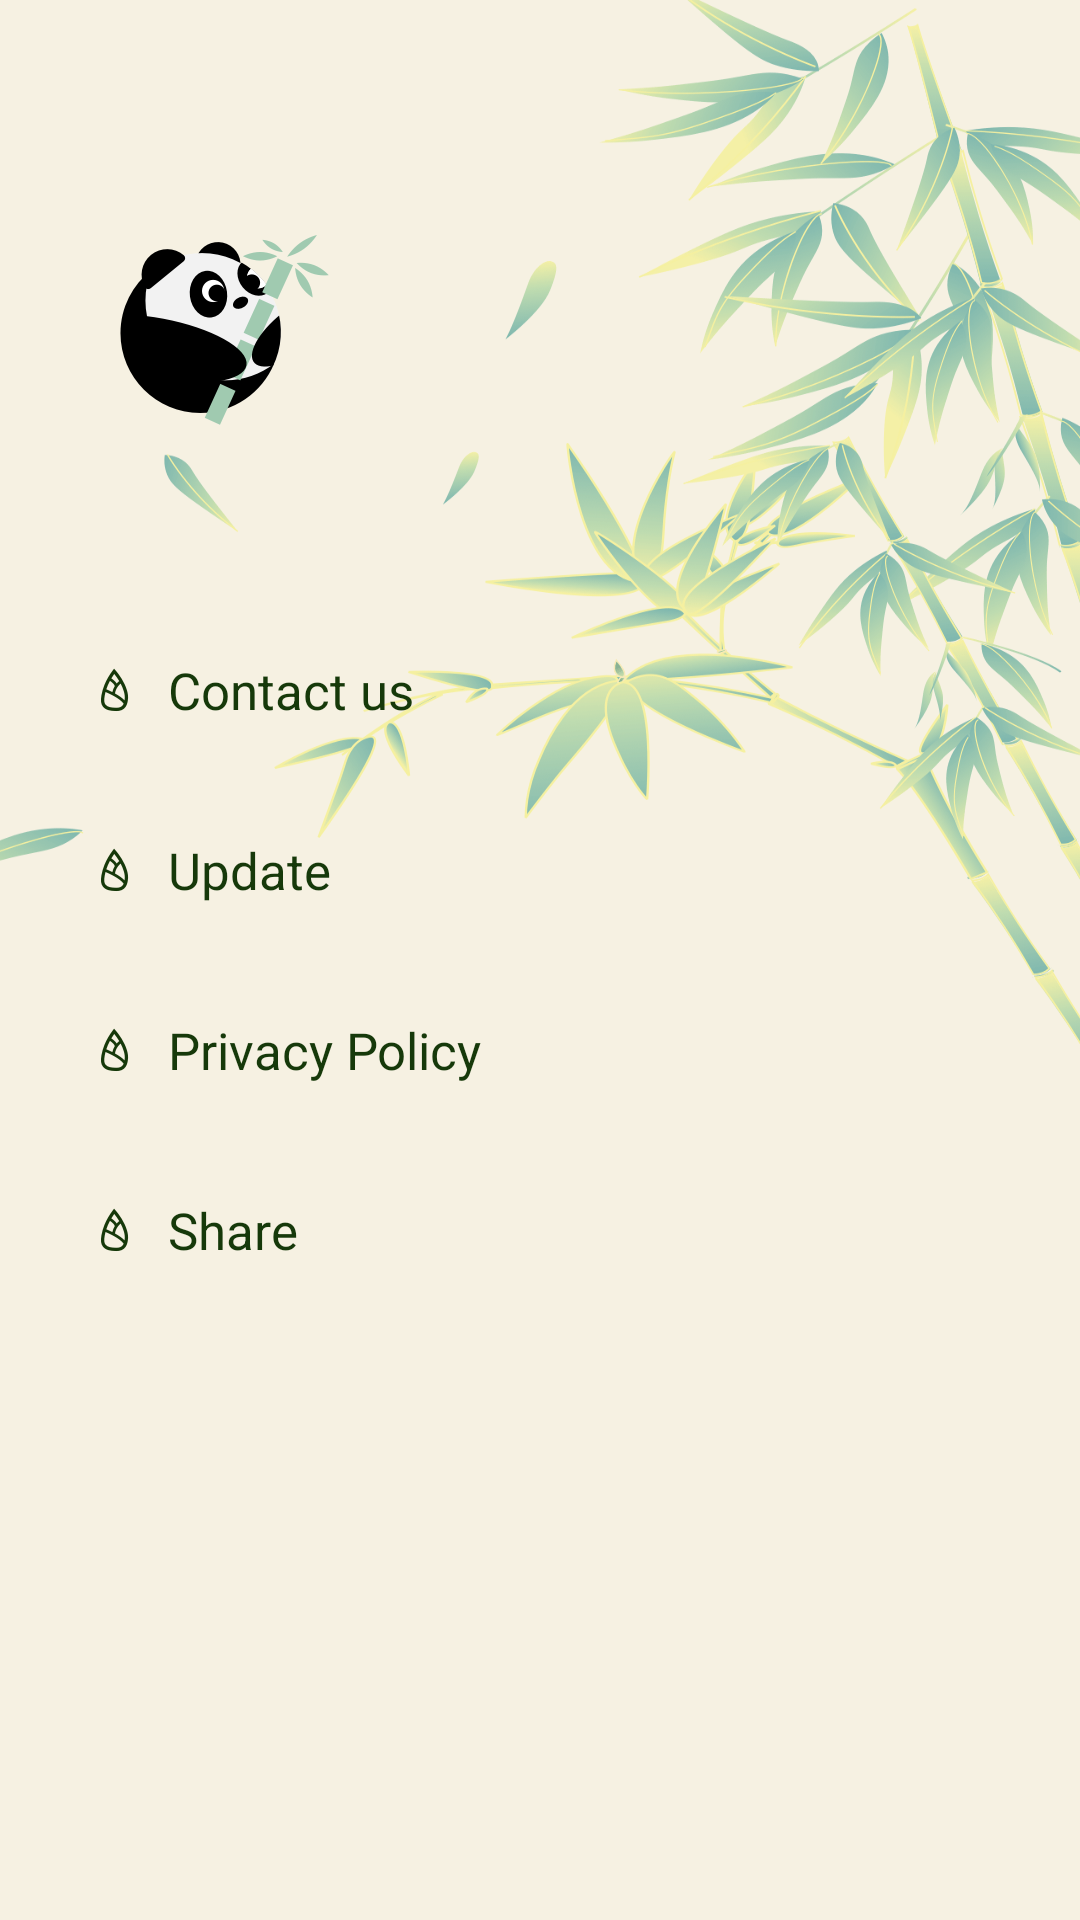

Locate icon controls on the screen. Image size 1080w x 1920h, boxes as (x1, y1, x2, y2).
zhusun: (101, 669, 128, 711), (101, 849, 128, 891), (101, 1029, 128, 1071), (101, 1209, 128, 1251)
